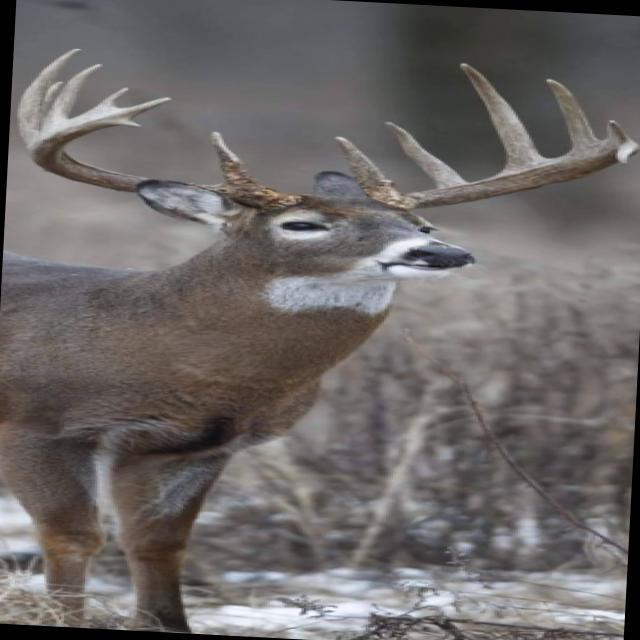E1: (604, 119, 632, 142)
L-F: (373, 142, 640, 210)
L-G1: (334, 136, 401, 199)
L-G2: (384, 121, 469, 188)
L-G3: (459, 62, 549, 172)
L-G4: (544, 78, 601, 150)
R-G1: (210, 131, 269, 188)
